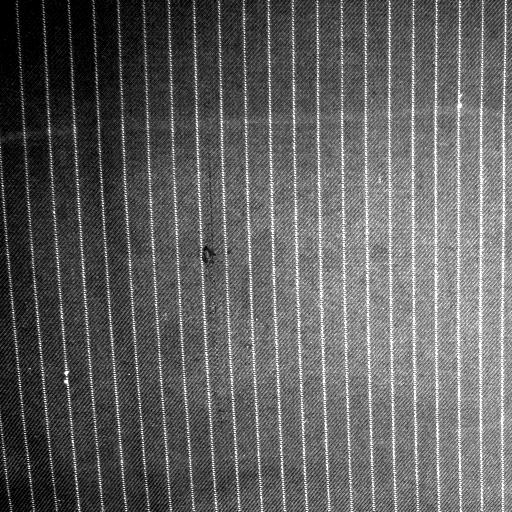fabric_hole: (193, 239, 223, 271)
